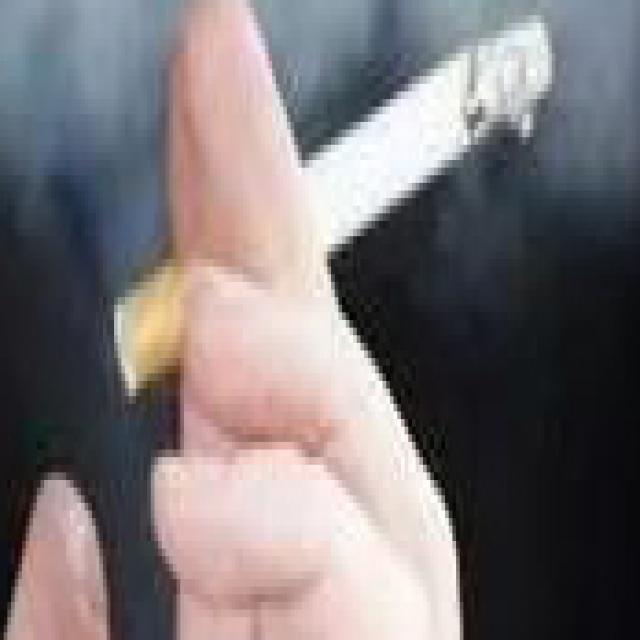smoking: (112, 16, 554, 396)
